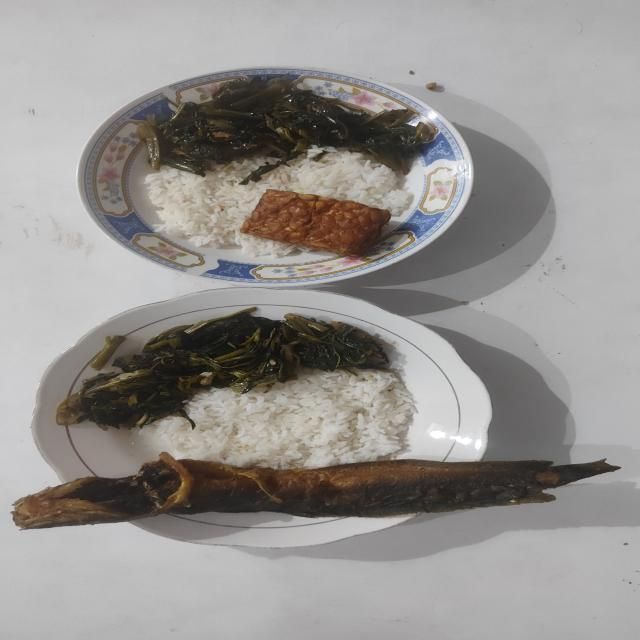nasi_putih: (145, 147, 410, 258), (150, 370, 417, 469)
tempe_goreng: (240, 190, 390, 256)
tumis_kangkung: (56, 308, 389, 430), (136, 74, 438, 184)
